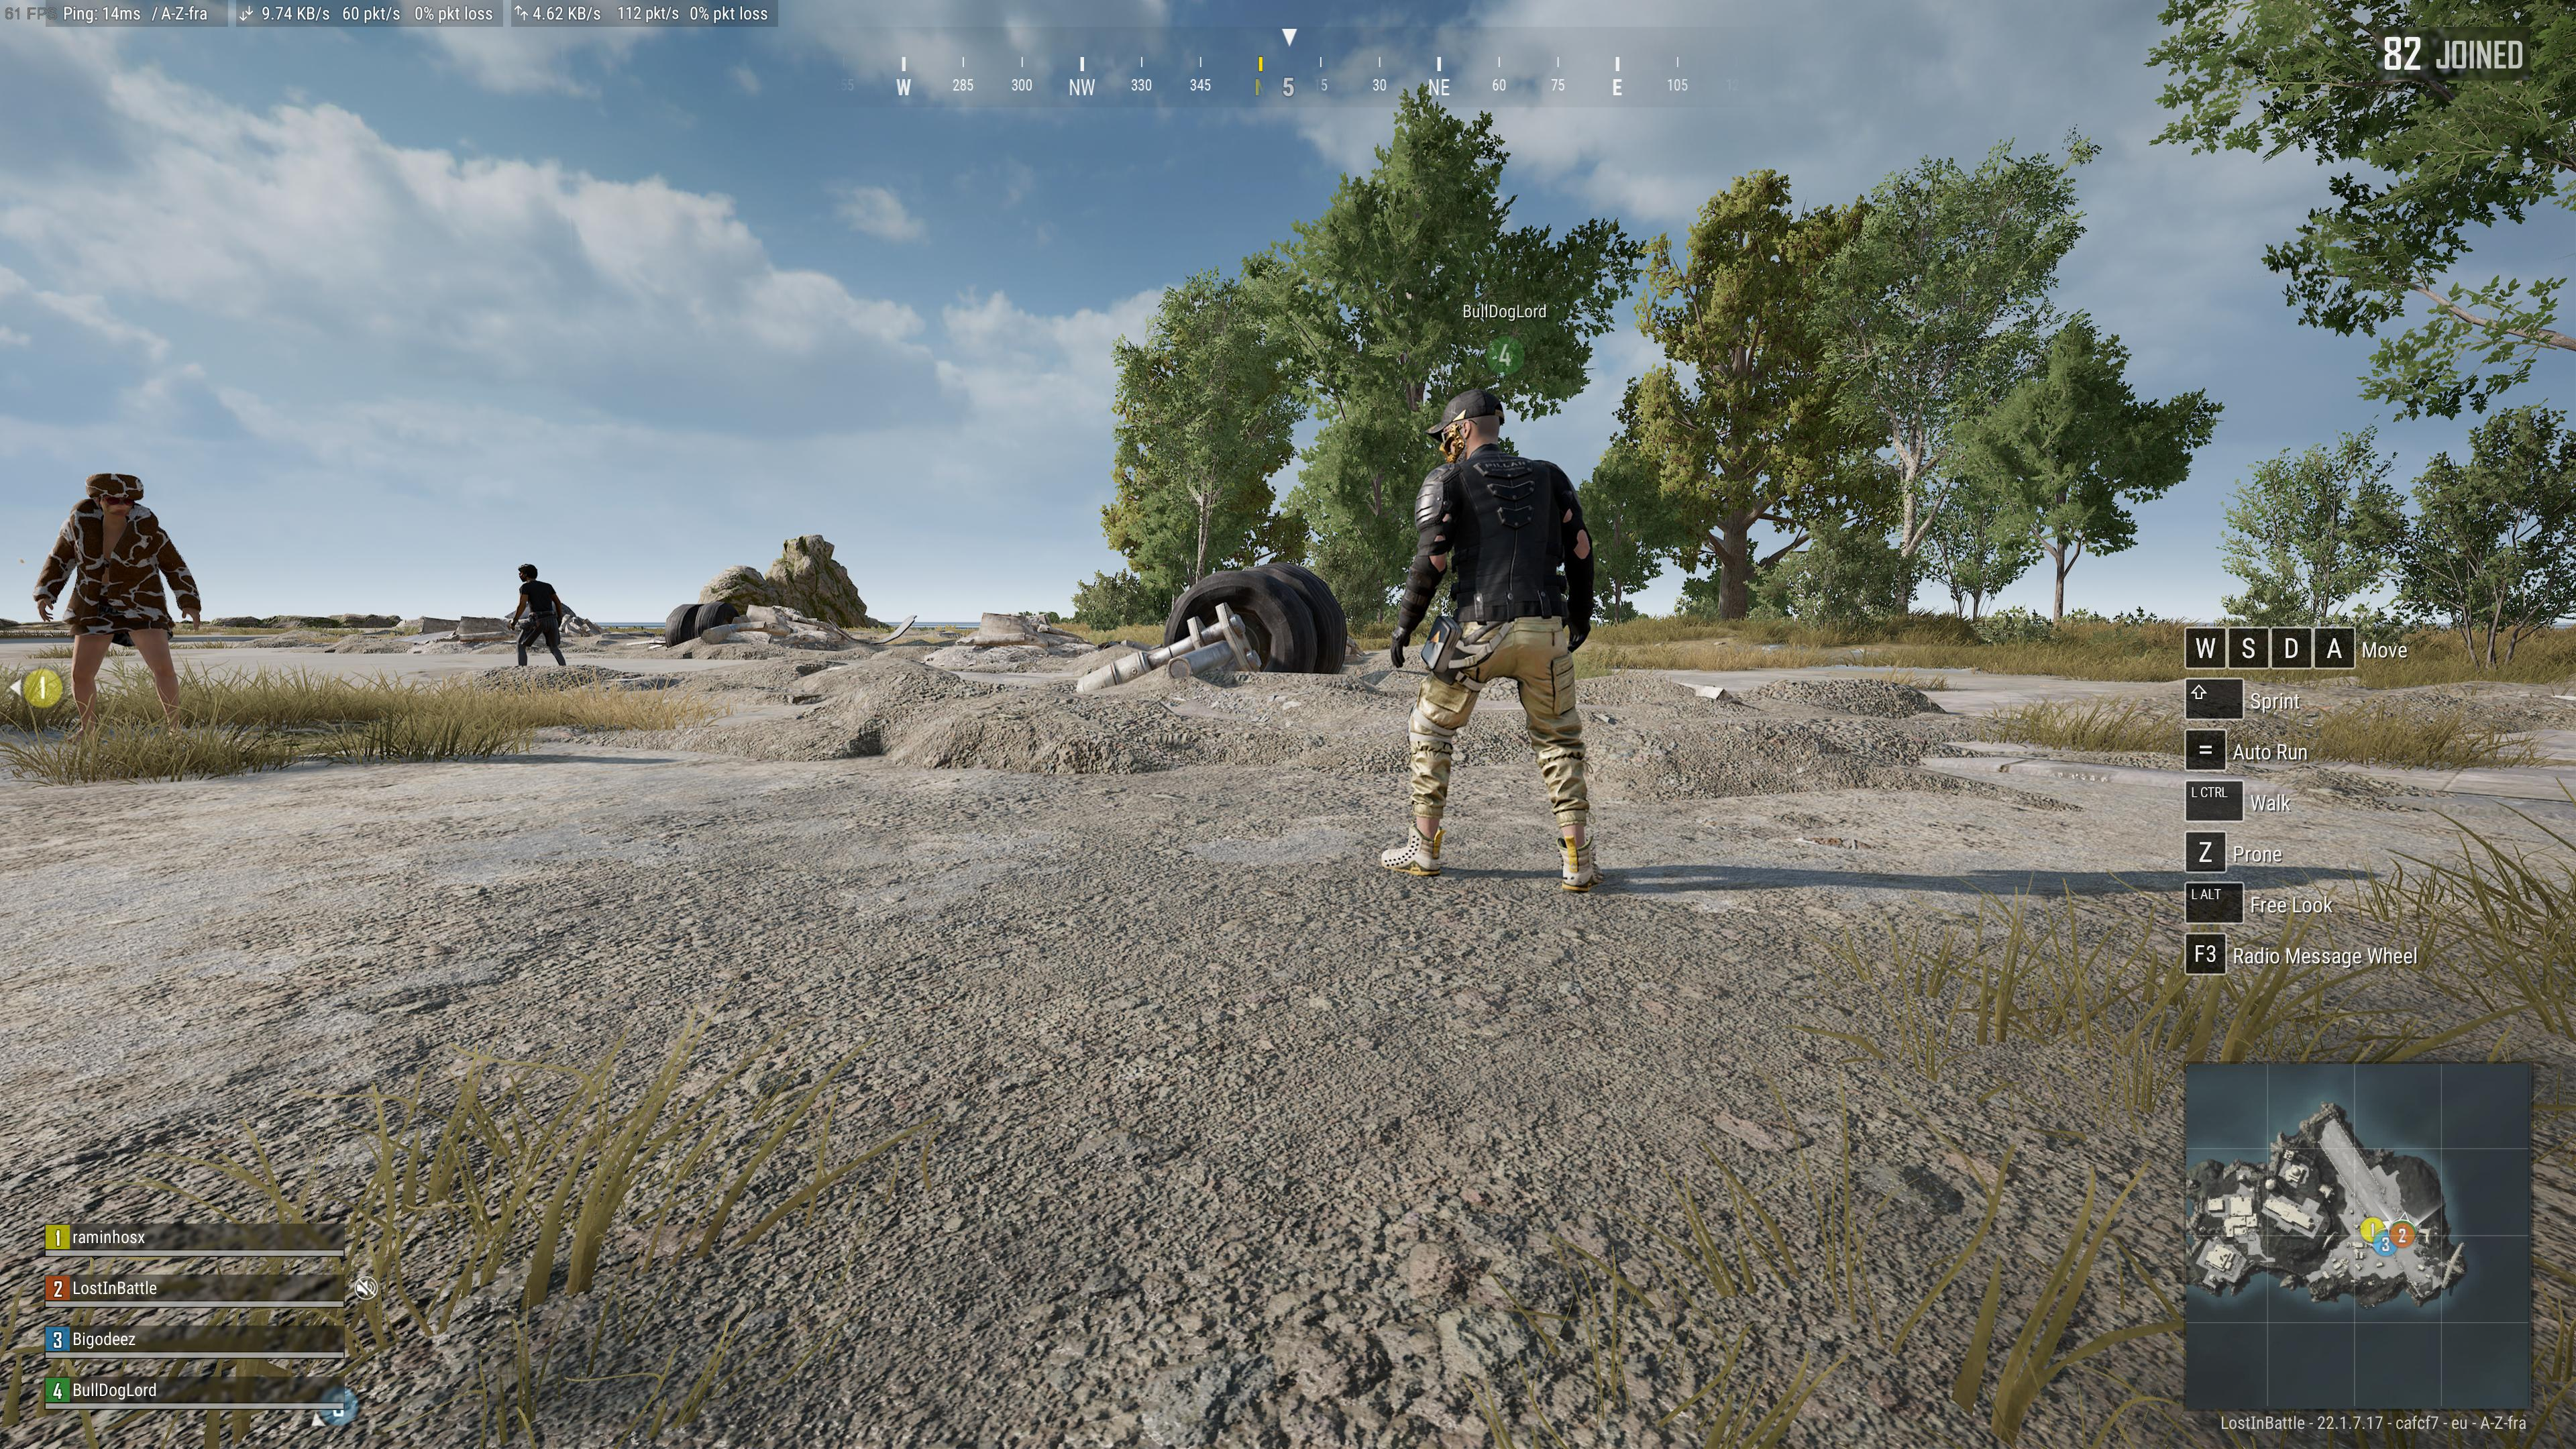enemy: (32, 469, 200, 738), (506, 561, 566, 665)
enemy_head: (85, 469, 145, 518), (517, 563, 538, 582)
friendly: (1380, 357, 1603, 892)
